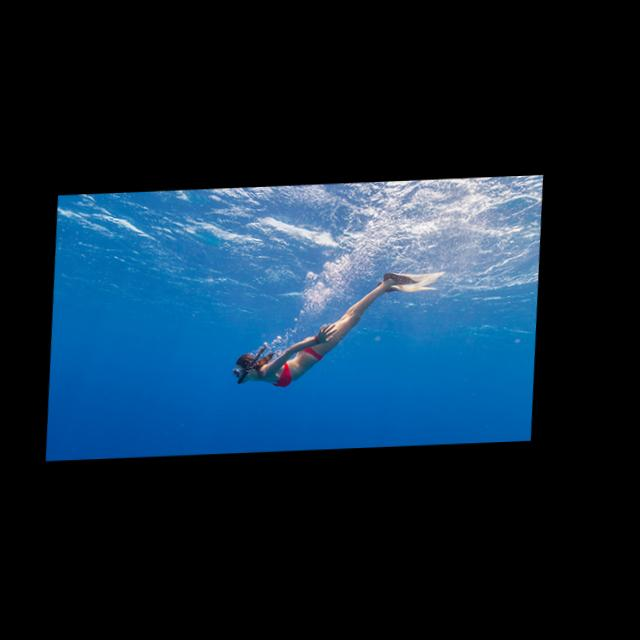human: (232, 268, 455, 395)
